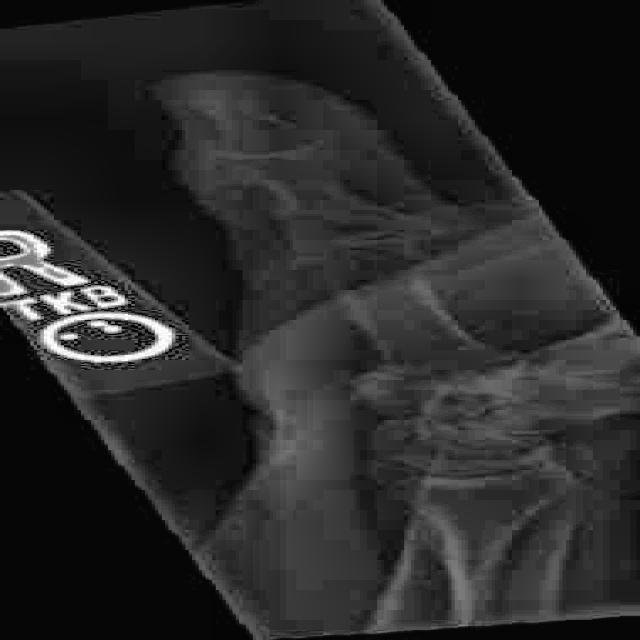fingers positive: (247, 187, 474, 241), (174, 88, 305, 116)
